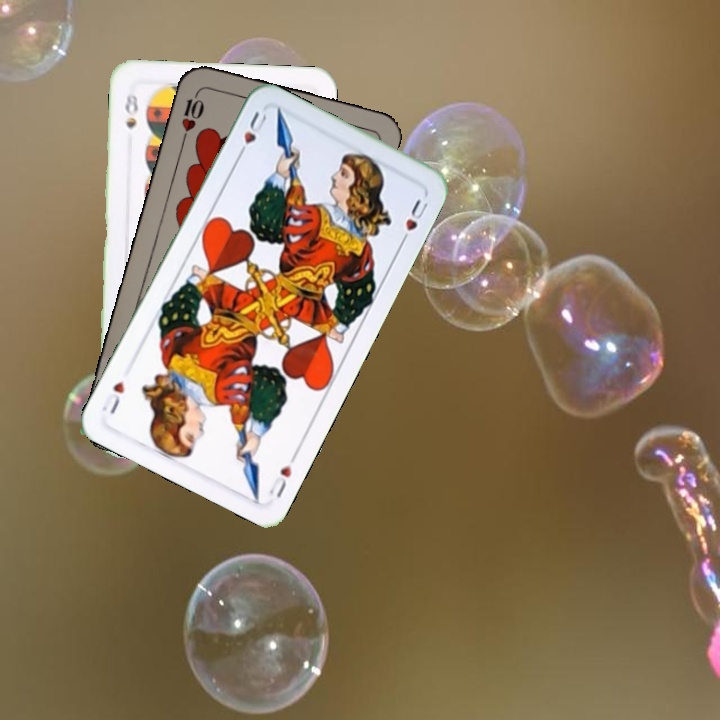H10: (177, 86, 207, 144)
HU: (232, 107, 270, 161), (265, 460, 295, 501)
S8: (121, 90, 141, 131)
